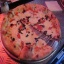pizza: (1, 2, 59, 57)
